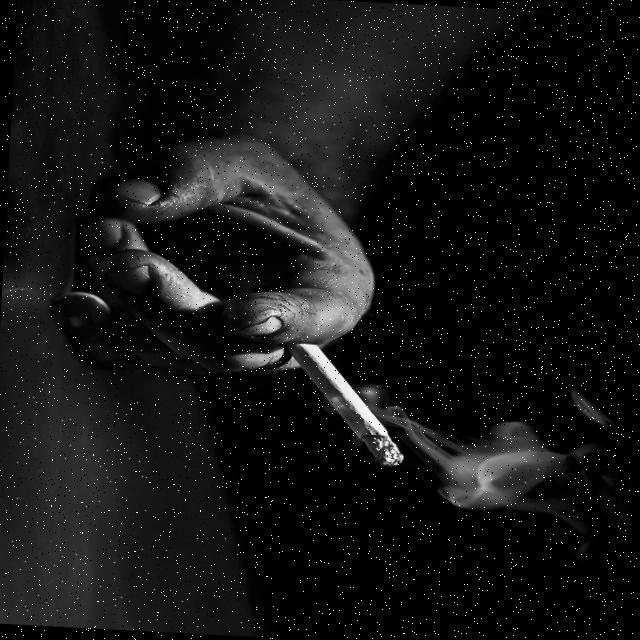cigarette: (275, 342, 418, 480)
